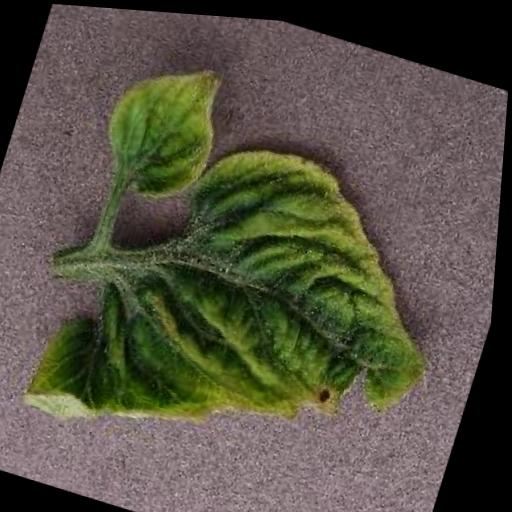Yellow Leaf Curl Virus: (24, 93, 489, 512), (95, 38, 238, 214)
